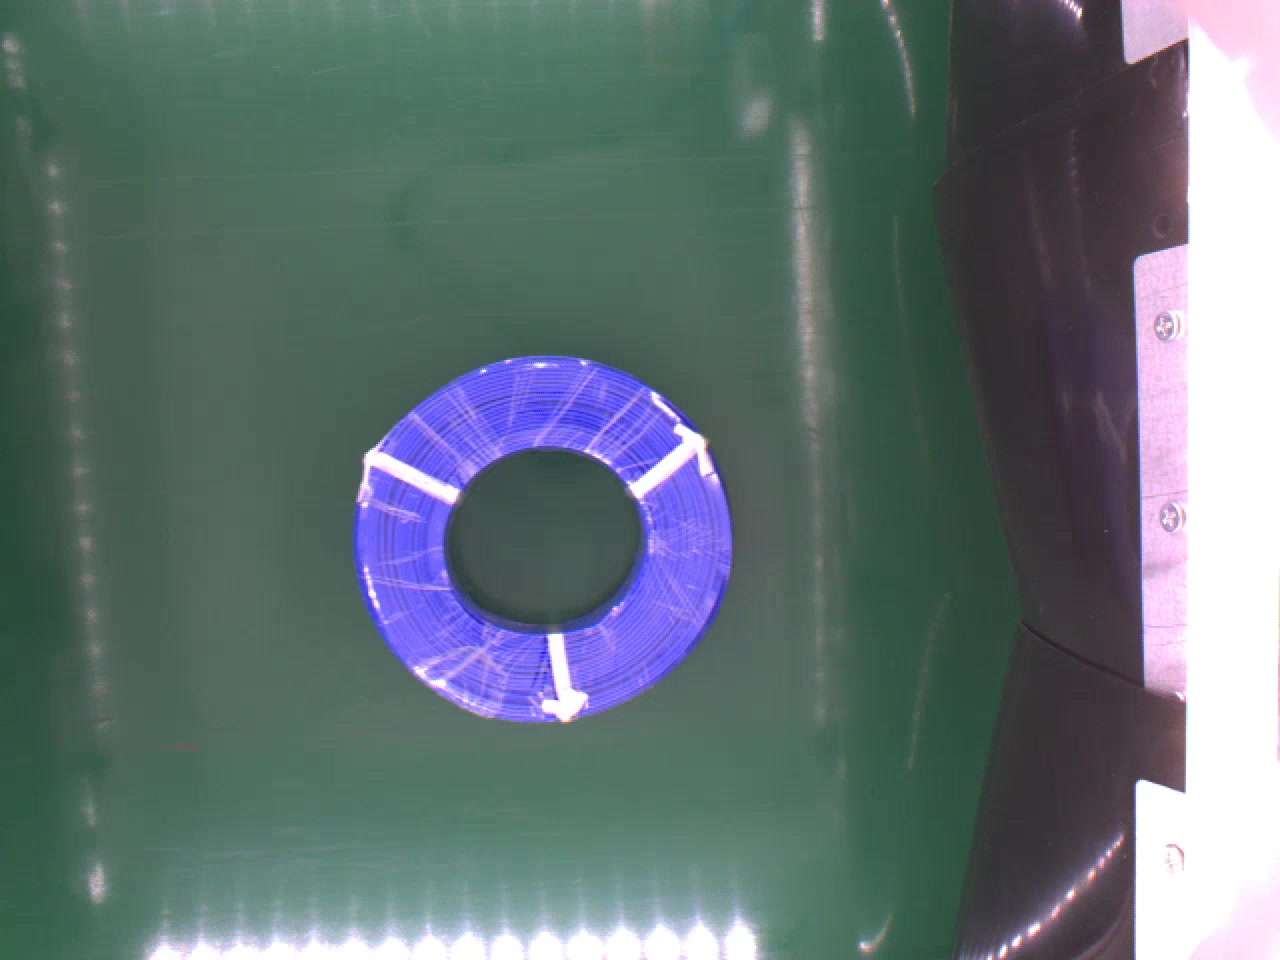blue: (348, 351, 742, 727)
